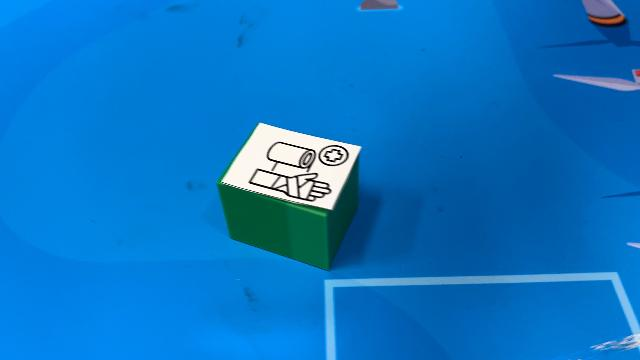bandage: (216, 119, 364, 270)
